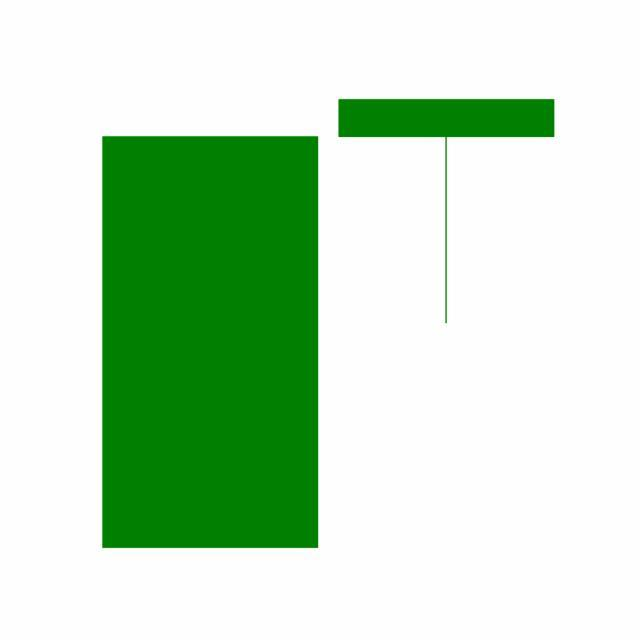Dragonfly Doji: (328, 96, 566, 326)
